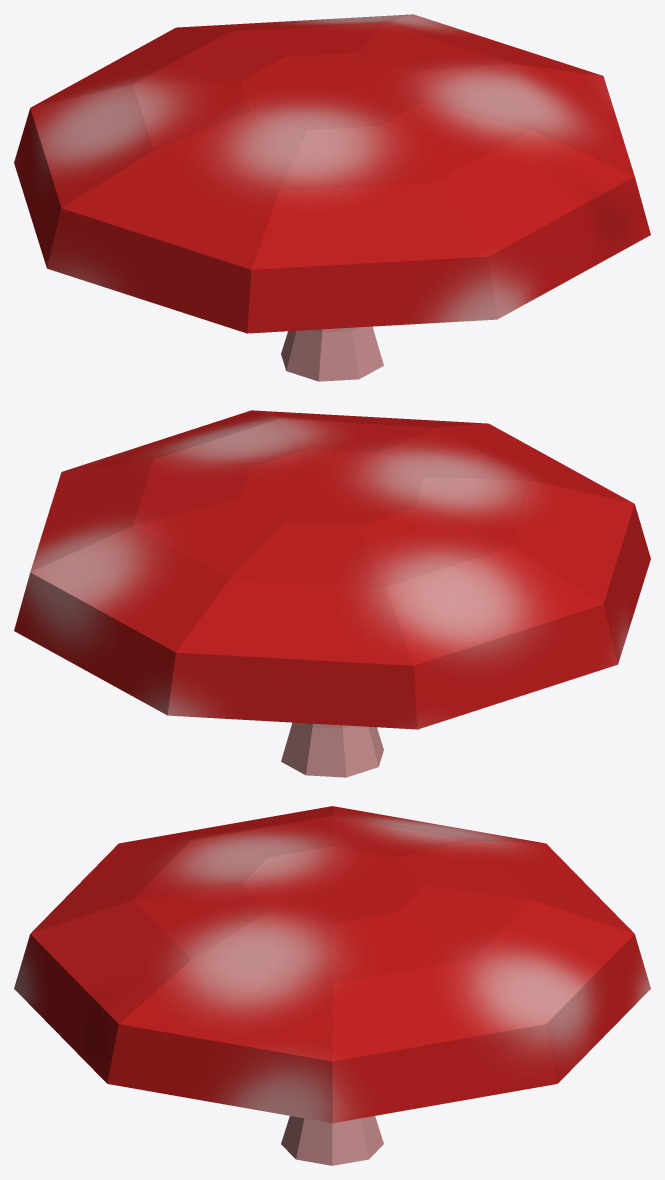
The model's file is mushroom.fbx.
The picture shows the model from 3 angles, top to bottom: view 1: azimuth 30°, elevation 25°; view 2: azimuth 150°, elevation 25°; view 3: azimuth 270°, elevation 25°; orthographic projection. The views are drawn at different scales.
Visible parts, largest first — view 1: Cylinder; view 2: Cylinder; view 3: Cylinder.
Boxes of the visible parts, x1,y1,x2,y2 form: Cylinder: (14,14,650,381); Cylinder: (14,410,650,777); Cylinder: (14,806,650,1165).
Bounding box in the file's own units: 121 × 54.46 × 121.
1 material, 1 textured.
